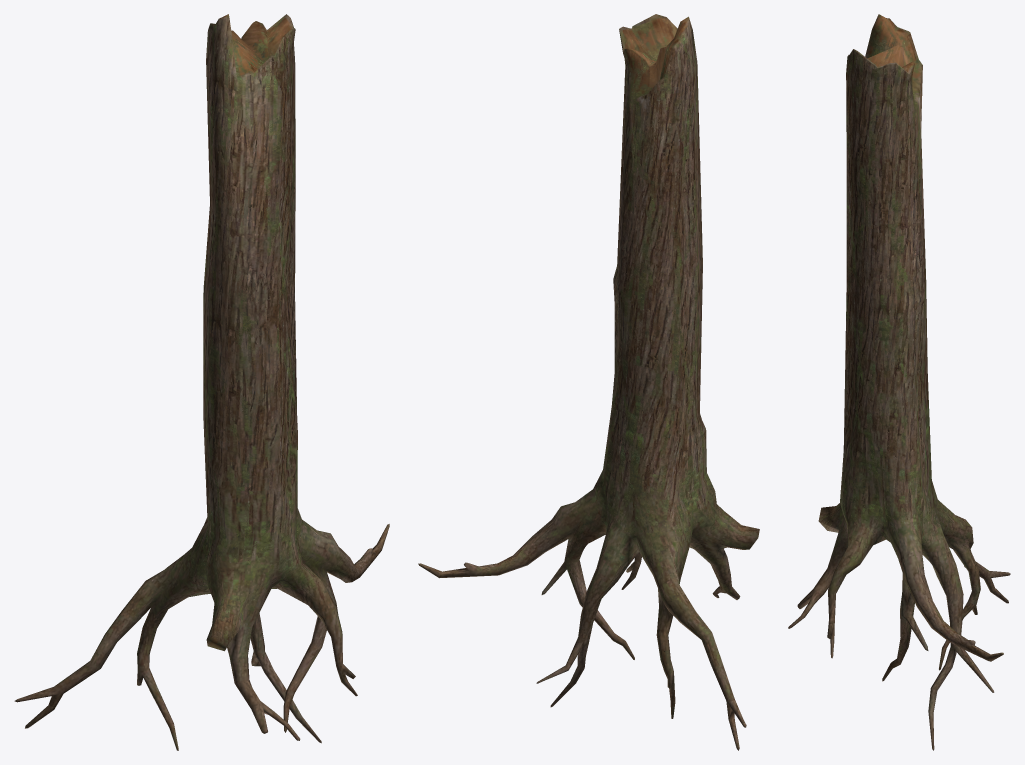
Rendered from TreeBroken1.fbx.
3 views of the same model, side by side, from view 1: azimuth 30°, elevation 25°; view 2: azimuth 150°, elevation 25°; view 3: azimuth 270°, elevation 25° (orthographic). The views are drawn at different scales.
Visible parts, largest first — view 1: SM_cmn_mount_BrokenTree_01a; view 2: SM_cmn_mount_BrokenTree_01a; view 3: SM_cmn_mount_BrokenTree_01a.
Boxes of the visible parts, x1,y1,x2,y2 form: SM_cmn_mount_BrokenTree_01a: (14, 14, 389, 750); SM_cmn_mount_BrokenTree_01a: (418, 14, 759, 750); SM_cmn_mount_BrokenTree_01a: (788, 14, 1010, 750).
Size of the model in its own units: 413 by 830 by 245.
